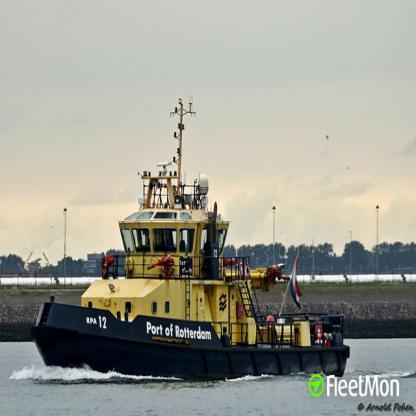Patrol Boat: (33, 95, 350, 379)
